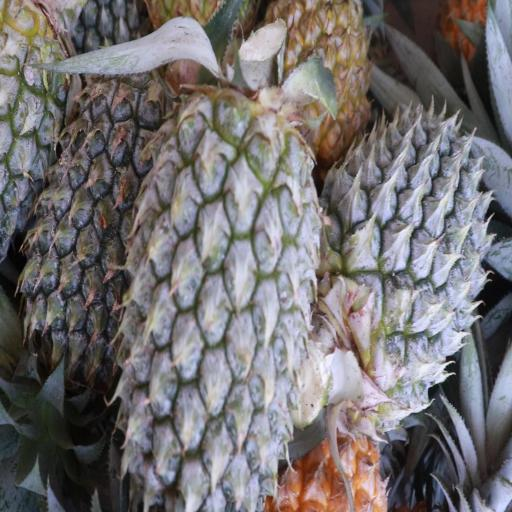Pineapple - v8 v1: (270, 0, 370, 149)
